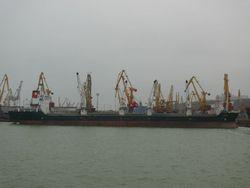Cargoship: (4, 71, 240, 126)
